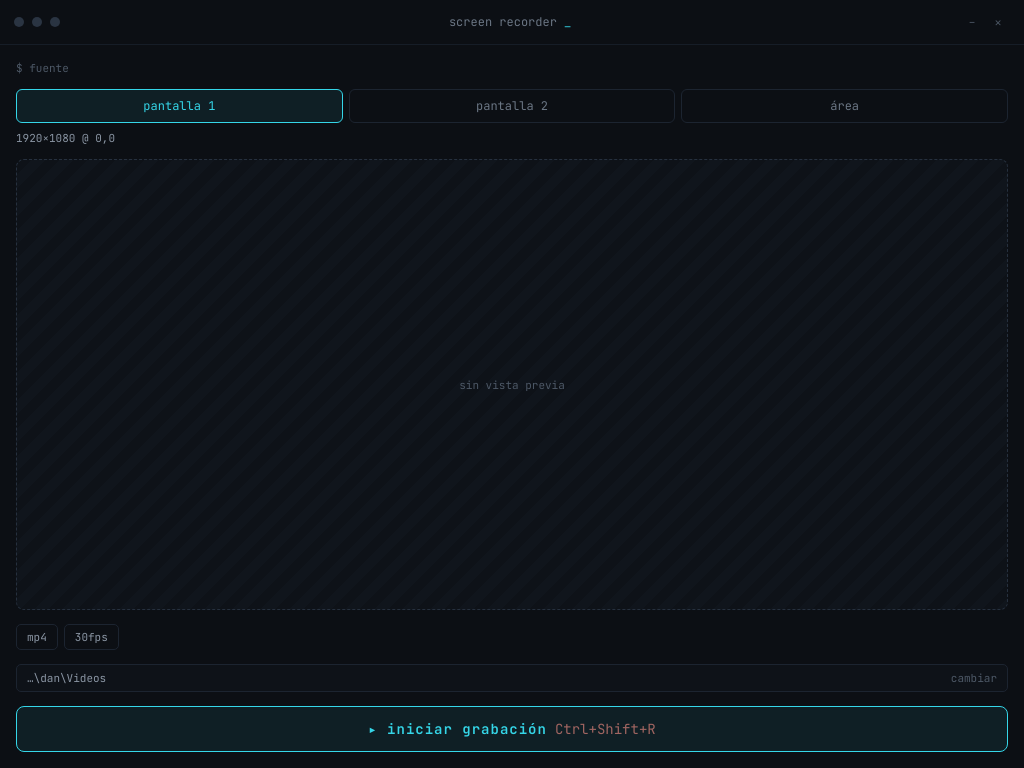
Scenario: modo grabación › reemplaza el panel por la barra chica
Click the button "▸ iniciar grabación Ctrl+Shift+R" at (512, 729), box [16,706,1008,752]
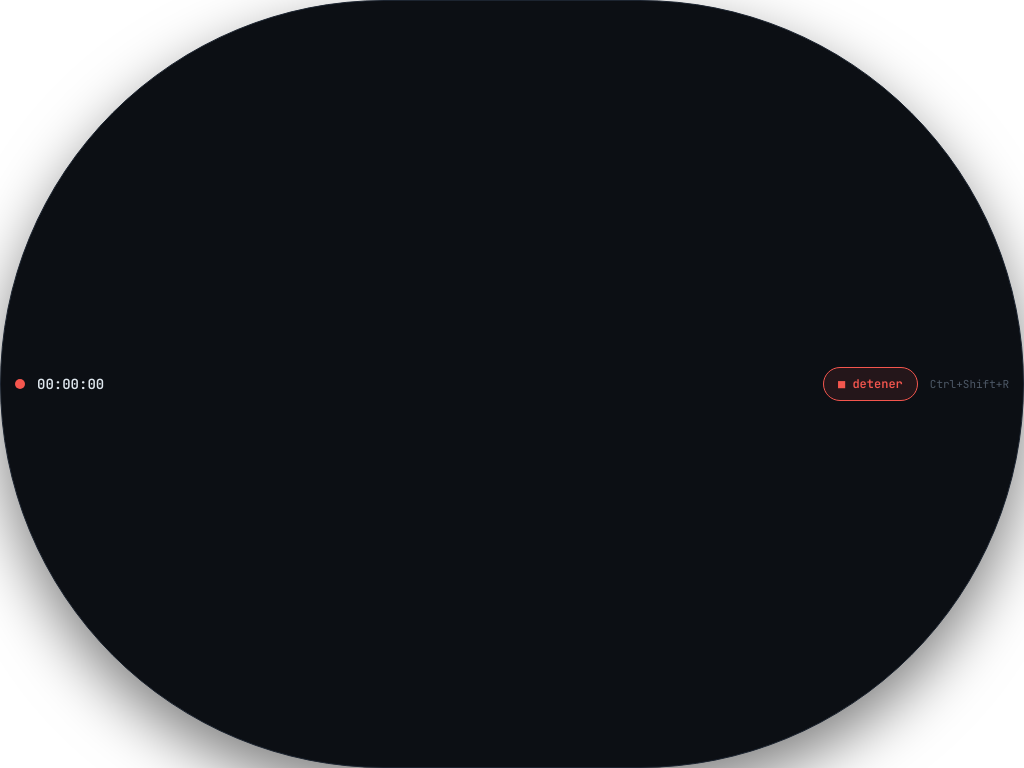
Expected: the button "■ detener" is shown, [823,367,918,401]
Expected: the button "área" is gone
